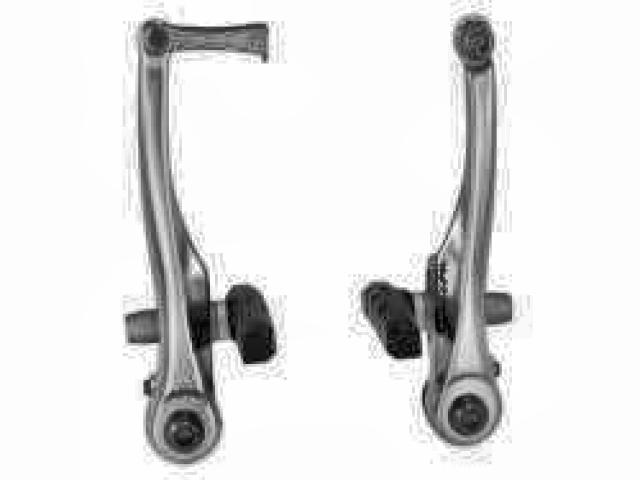rim_brake: (123, 15, 515, 467)
